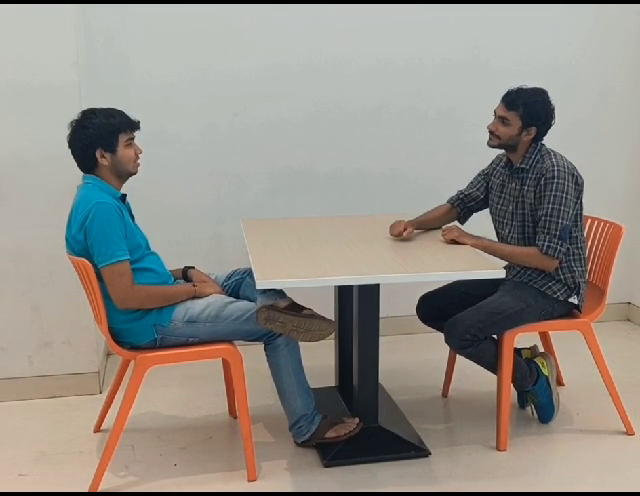person: (478, 78, 559, 159), (65, 104, 146, 185)
